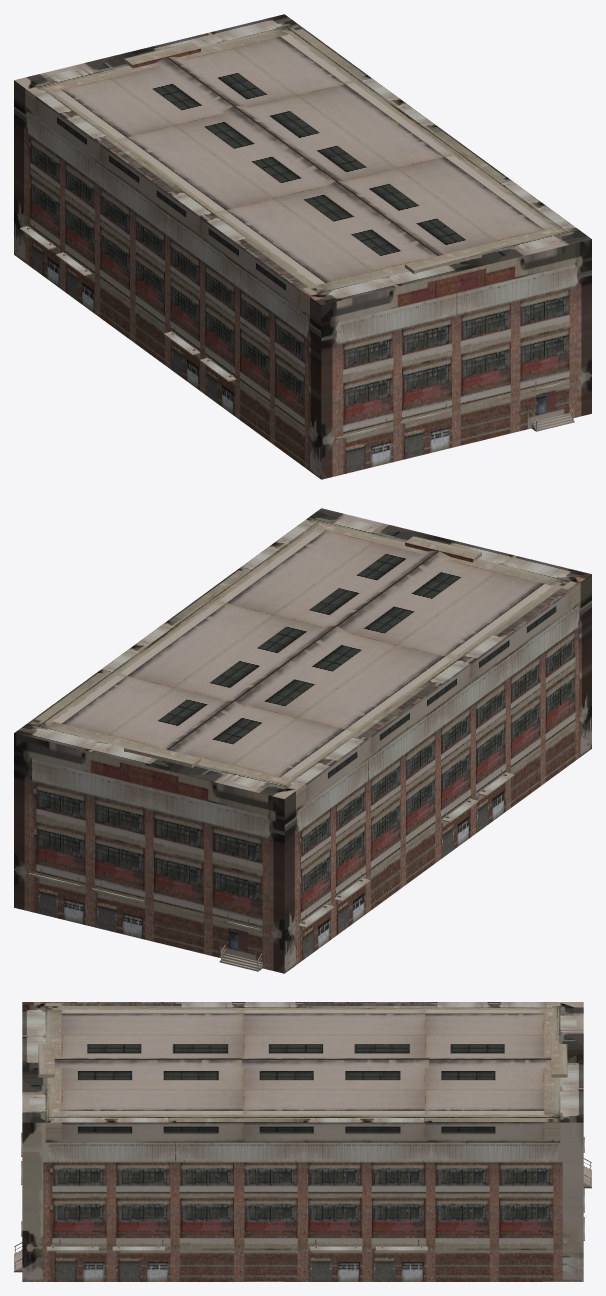
Rendered from dz_industrial_20.fbx.
3 views of the same model, one above another, from view 1: azimuth 30°, elevation 25°; view 2: azimuth 150°, elevation 25°; view 3: azimuth 270°, elevation 25° (orthographic). The views are drawn at different scales.
Parts seen in each view (by area): view 1: dz_industrial_20_LOD0; view 2: dz_industrial_20_LOD0; view 3: dz_industrial_20_LOD0.
Part boxes in pixels (x1,y1,x2,y2): dz_industrial_20_LOD0: (14, 14, 591, 479); dz_industrial_20_LOD0: (14, 508, 591, 973); dz_industrial_20_LOD0: (14, 1002, 591, 1281).
Size of what is drawn, in the model's own units: 43.5 by 25.83 by 83.27.
2 materials, 2 textured.
